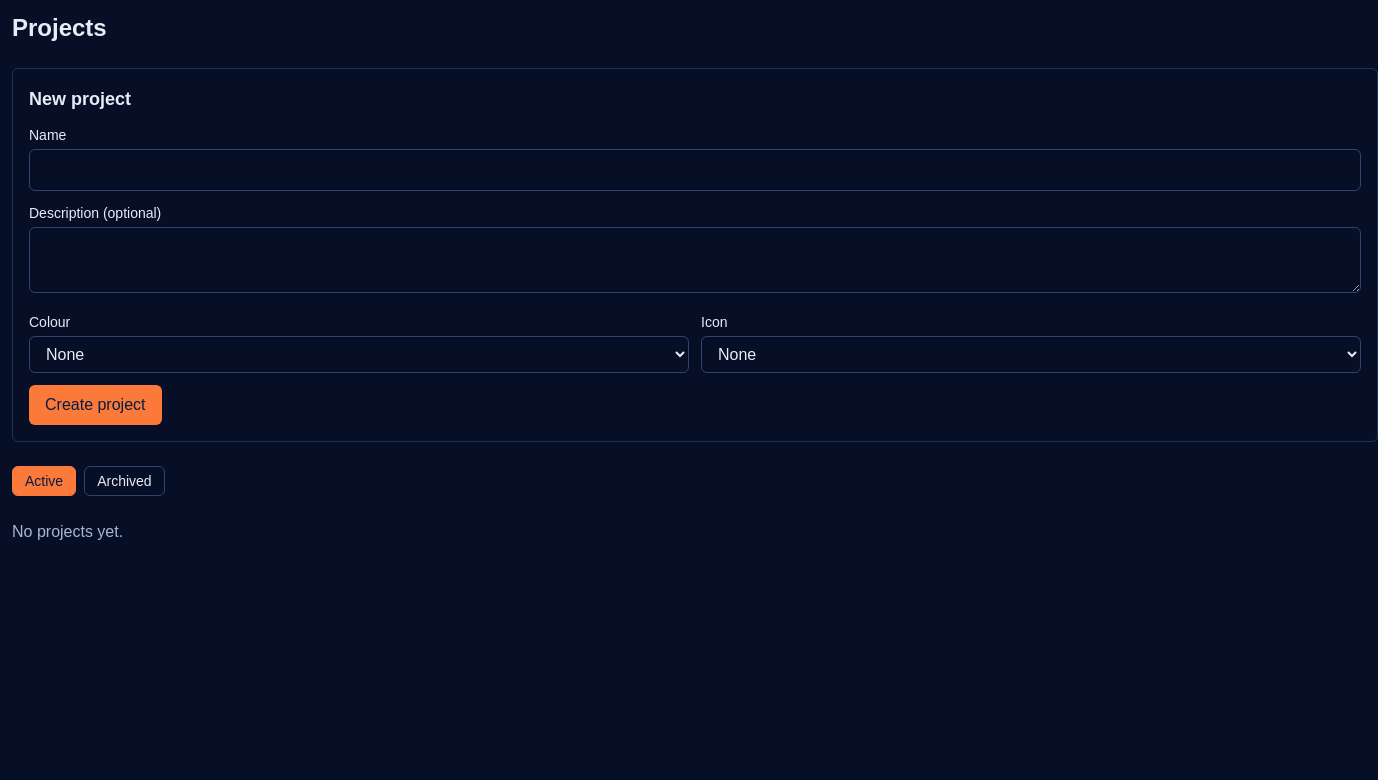
it: ProjectsView › switches to the archived list
Expected: the text "No projects yet." is shown, 12,523 -> 123,540
Click the button "Archived" at (124, 481), box 84,466 -> 165,496
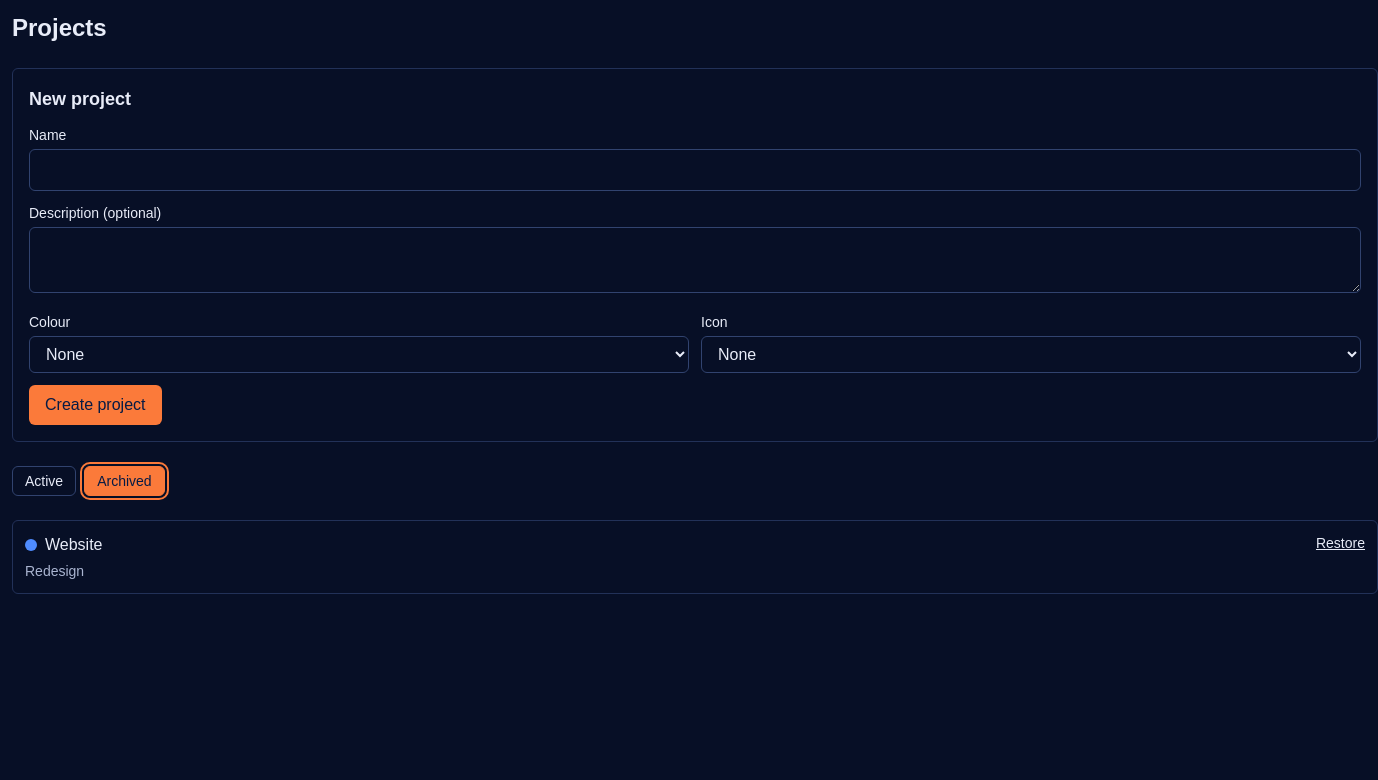
Now the text "Website" is shown, box 45,533 -> 102,557
Now the button "Restore" is shown, box 1316,533 -> 1365,553
